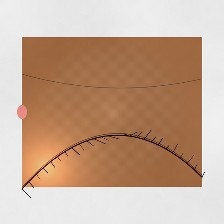pinguecula_lesion: (36, 88, 70, 116)
